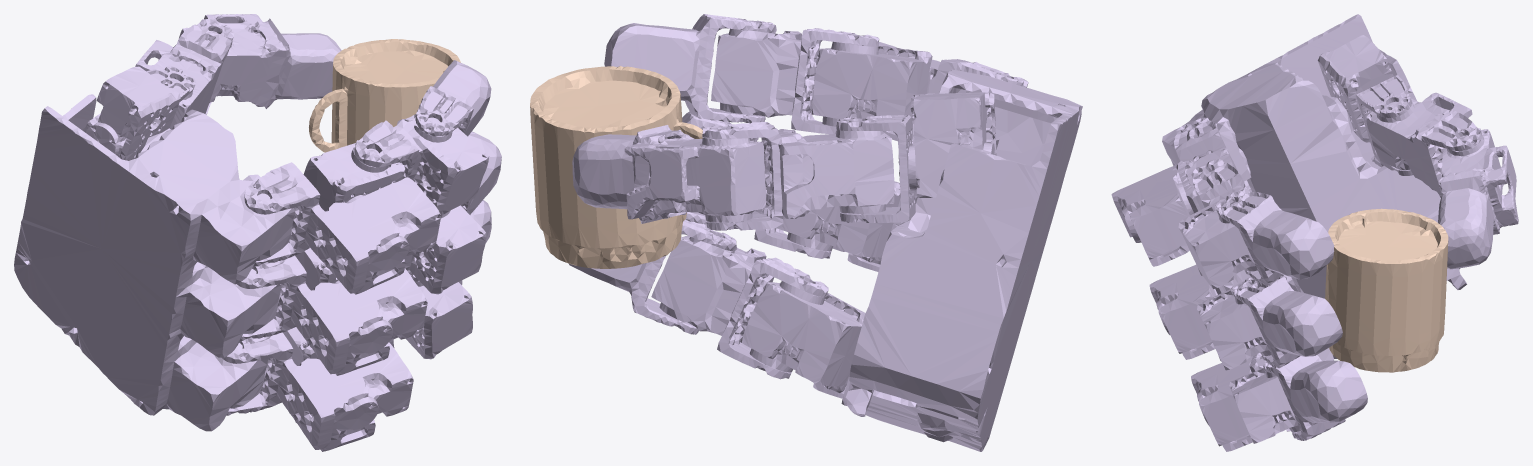
The picture shows the model from 3 angles, left to right: view 1: azimuth 30°, elevation 25°; view 2: azimuth 150°, elevation 25°; view 3: azimuth 270°, elevation 25°; orthographic projection. The views are drawn at different scales.
Visible parts, largest first — view 1: LEAP_hand, world; view 2: LEAP_hand, world; view 3: LEAP_hand, world.
Boxes of the visible parts, x1,y1,x2,y2 form: LEAP_hand: (14,14,501,451); world: (309,39,460,152); LEAP_hand: (568,14,1082,451); world: (530,66,702,268); LEAP_hand: (1111,14,1518,451); world: (1325,208,1448,372).
Bounding box in the file's own units: 0.2018 × 0.1569 × 0.1741.
